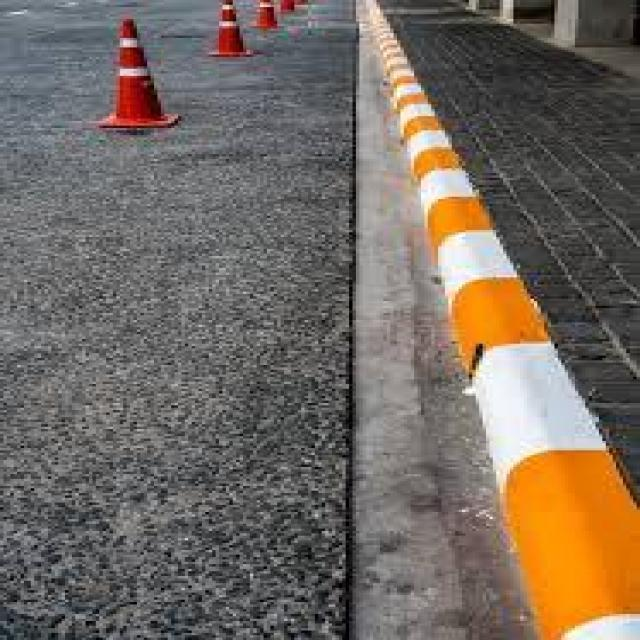bump: (388, 127, 640, 640)
